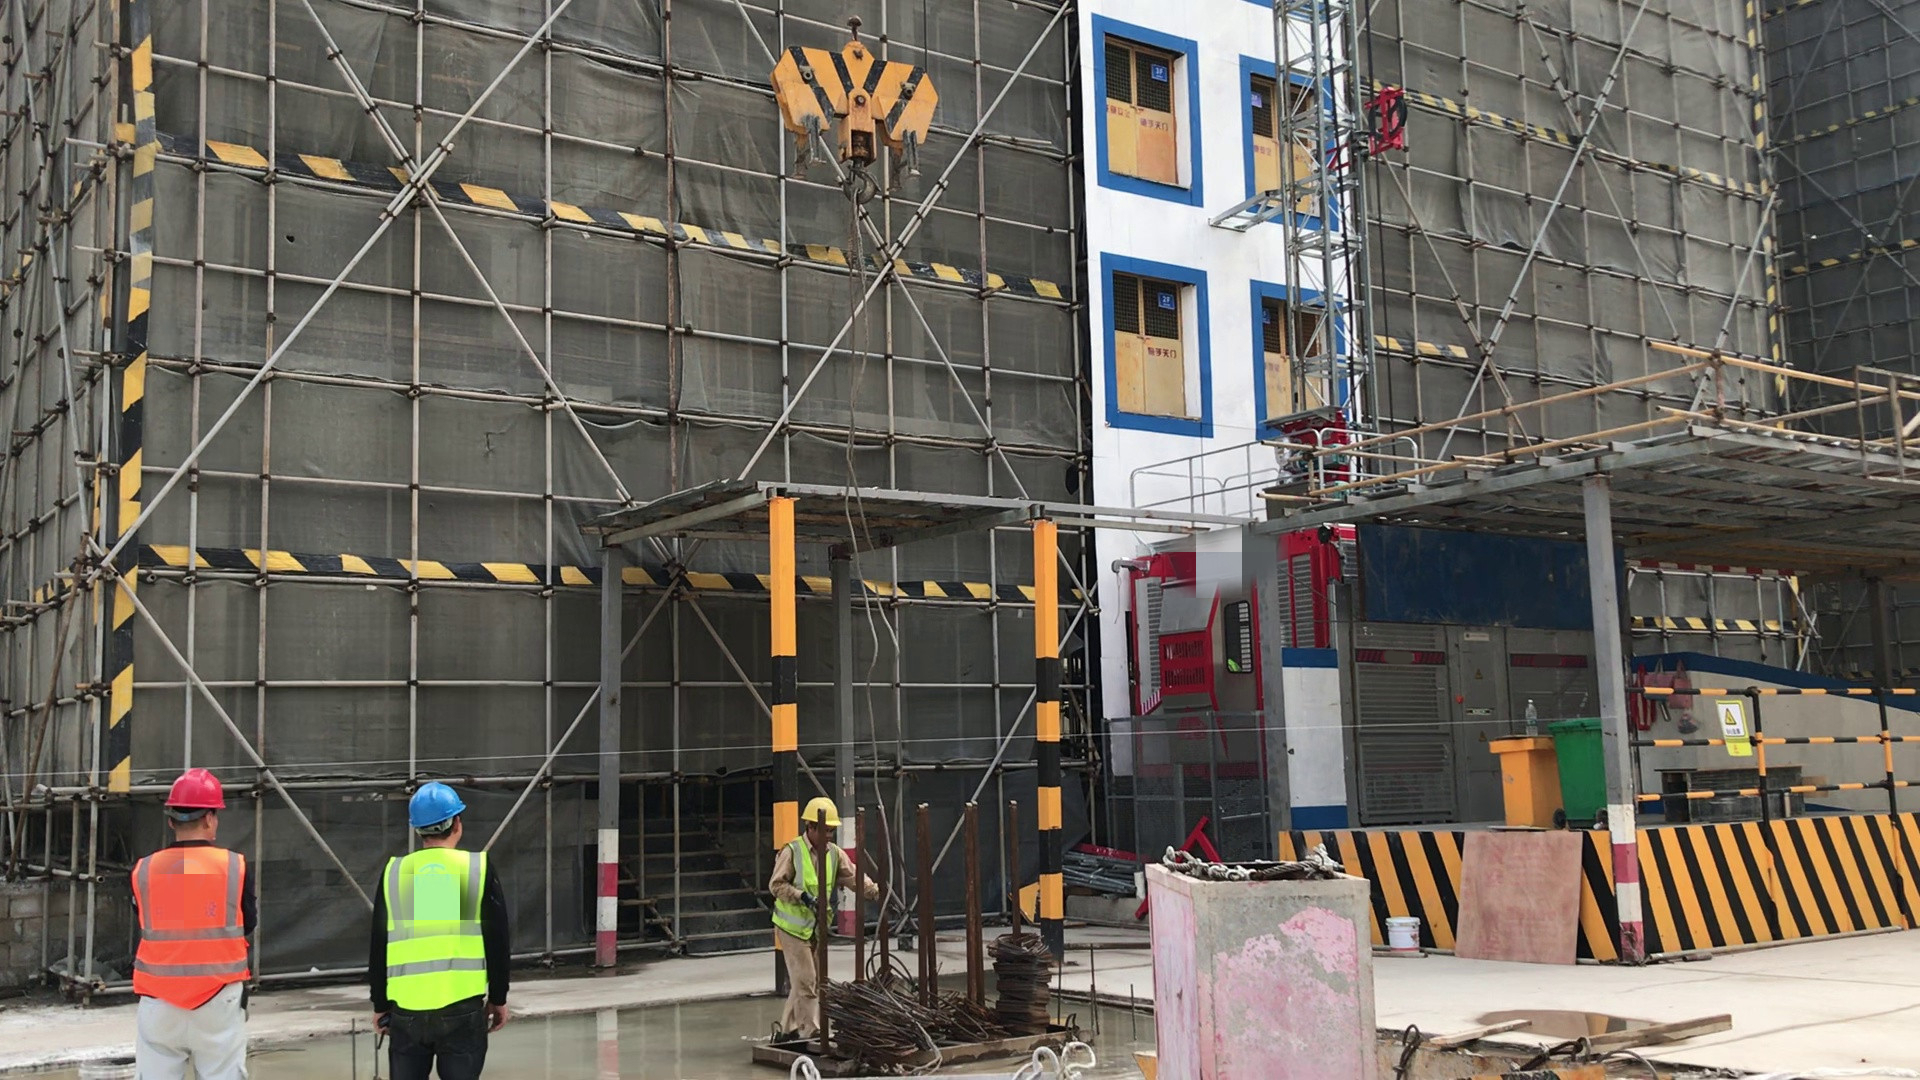ebox: (1489, 745, 1565, 824)
helmet: (408, 783, 467, 829), (162, 768, 225, 810), (801, 796, 841, 828)
hook: (774, 20, 936, 207)
person: (377, 784, 501, 1080), (135, 769, 251, 1080), (773, 795, 846, 1049)
slogan: (1715, 697, 1748, 761)
vest: (378, 854, 490, 1014), (144, 851, 246, 1000), (789, 843, 835, 941)
